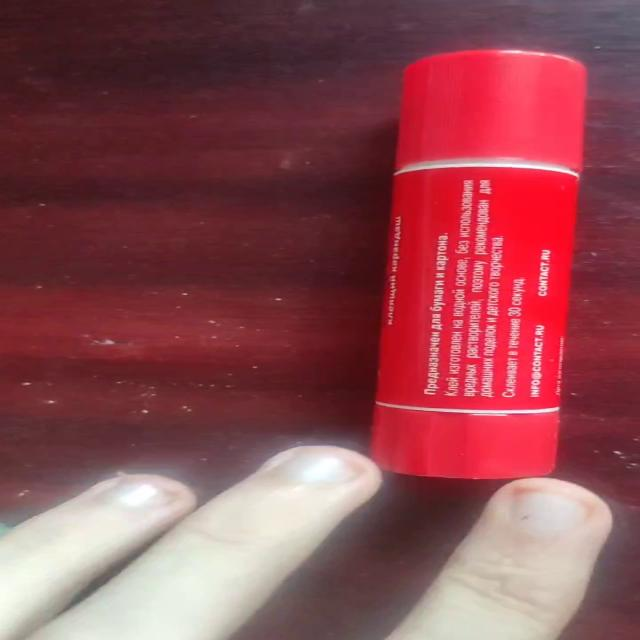glue: (367, 48, 588, 480)
